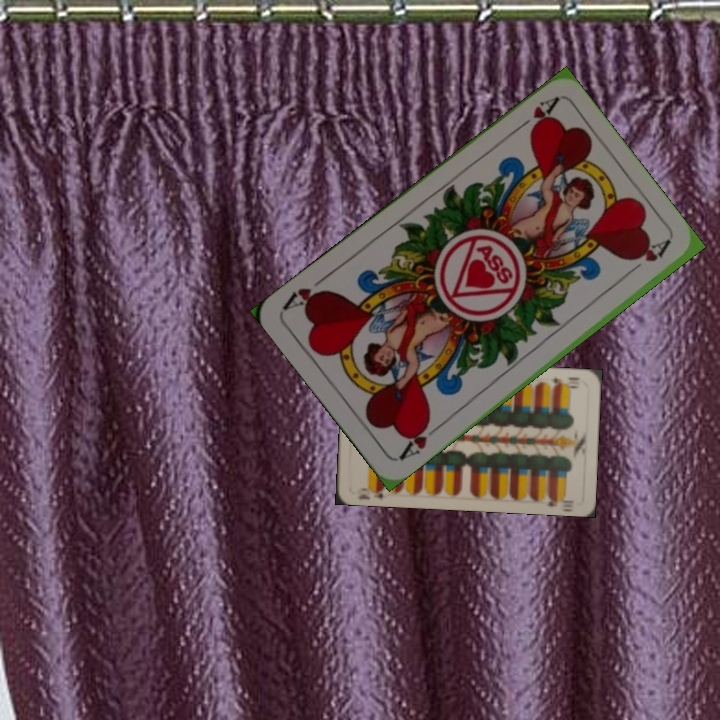E10: (353, 482, 387, 502), (548, 373, 583, 391)
HA: (395, 416, 445, 463), (509, 93, 560, 137)
